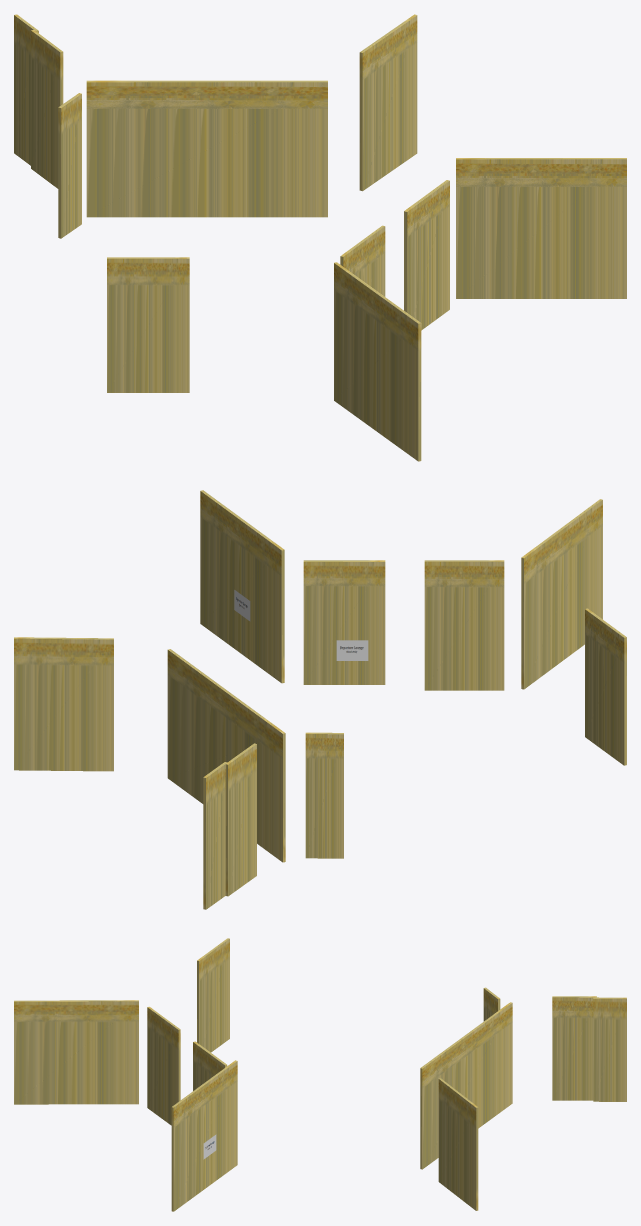
File: Dividerwalls.fbx
3 views of the same model, one above another, from view 1: azimuth 30°, elevation 25°; view 2: azimuth 150°, elevation 25°; view 3: azimuth 270°, elevation 25° (orthographic). The views are drawn at different scales.
Visible parts, largest first — view 1: Arrivals_Divider_wall, Lounge_sign_wall_front, Orrery_wall, Departure_Wall, Arrivals_Desk_Exit_Board_Non_Bloods_, Lounge_sign_wall_door, Arrivals_Desk_Wall_Non_Bloods, Arrivals_Desk_Board_Bloods__1_, Desk_Kiosk_Door, Dep_Lounge_walls; view 2: Arrivals_Desk_Exit_Board_Non_Bloods_, Arrivals_Divider_wall, Lounge_sign_wall_front, Dep_Lounge_walls, Orrery_wall, Lounge_sign_wall_door, Departure_Wall, Arrivals_Desk_Board_Bloods__1_, Arrivals_Desk_Wall_Non_Bloods, Desk_Kiosk_Door, Lounge_Sign_1; view 3: Orrery_wall, Arrivals_Divider_wall, Lounge_sign_wall_front, Arrivals_Desk_Wall_Non_Bloods, Arrivals_Desk_Exit_Board_Non_Bloods_, Desk_Kiosk_Door, Dep_Lounge_walls, Departure_Wall, Lounge_sign_wall_door, Arrivals_Desk_Board_Bloods__1_.
Boxes of the visible parts, x1,y1,x2,y2 form: Arrivals_Divider_wall: [86, 80, 327, 217]; Lounge_sign_wall_front: [456, 158, 626, 298]; Orrery_wall: [334, 262, 421, 461]; Departure_Wall: [107, 257, 189, 392]; Arrivals_Desk_Exit_Board_Non_Bloods_: [359, 14, 417, 191]; Lounge_sign_wall_door: [404, 180, 449, 330]; Arrivals_Desk_Wall_Non_Bloods: [31, 30, 63, 188]; Arrivals_Desk_Board_Bloods__1_: [58, 93, 81, 238]; Desk_Kiosk_Door: [14, 14, 38, 165]; Dep_Lounge_walls: [340, 225, 385, 296]; Arrivals_Desk_Exit_Board_Non_Bloods_: [14, 637, 113, 771]; Arrivals_Divider_wall: [167, 649, 285, 862]; Lounge_sign_wall_front: [200, 490, 284, 683]; Dep_Lounge_walls: [424, 560, 504, 690]; Orrery_wall: [521, 499, 602, 689]; Lounge_sign_wall_door: [303, 560, 385, 684]; Departure_Wall: [585, 608, 626, 765]; Arrivals_Desk_Board_Bloods__1_: [305, 732, 343, 858]; Arrivals_Desk_Wall_Non_Bloods: [225, 743, 256, 896]; Desk_Kiosk_Door: [203, 762, 227, 909]; Lounge_Sign_1: [336, 640, 368, 660]; Orrery_wall: [14, 1000, 138, 1104]; Arrivals_Divider_wall: [420, 1002, 512, 1169]; Lounge_sign_wall_front: [171, 1060, 237, 1211]; Arrivals_Desk_Wall_Non_Bloods: [552, 996, 596, 1100]; Arrivals_Desk_Exit_Board_Non_Bloods_: [438, 1078, 478, 1210]; Desk_Kiosk_Door: [593, 997, 626, 1101]; Dep_Lounge_walls: [147, 1006, 180, 1125]; Departure_Wall: [197, 938, 229, 1052]; Lounge_sign_wall_door: [193, 1041, 227, 1090]; Arrivals_Desk_Board_Bloods__1_: [483, 987, 500, 1021].
Bounding box in the file's own units: 2264 × 664 × 3326.
